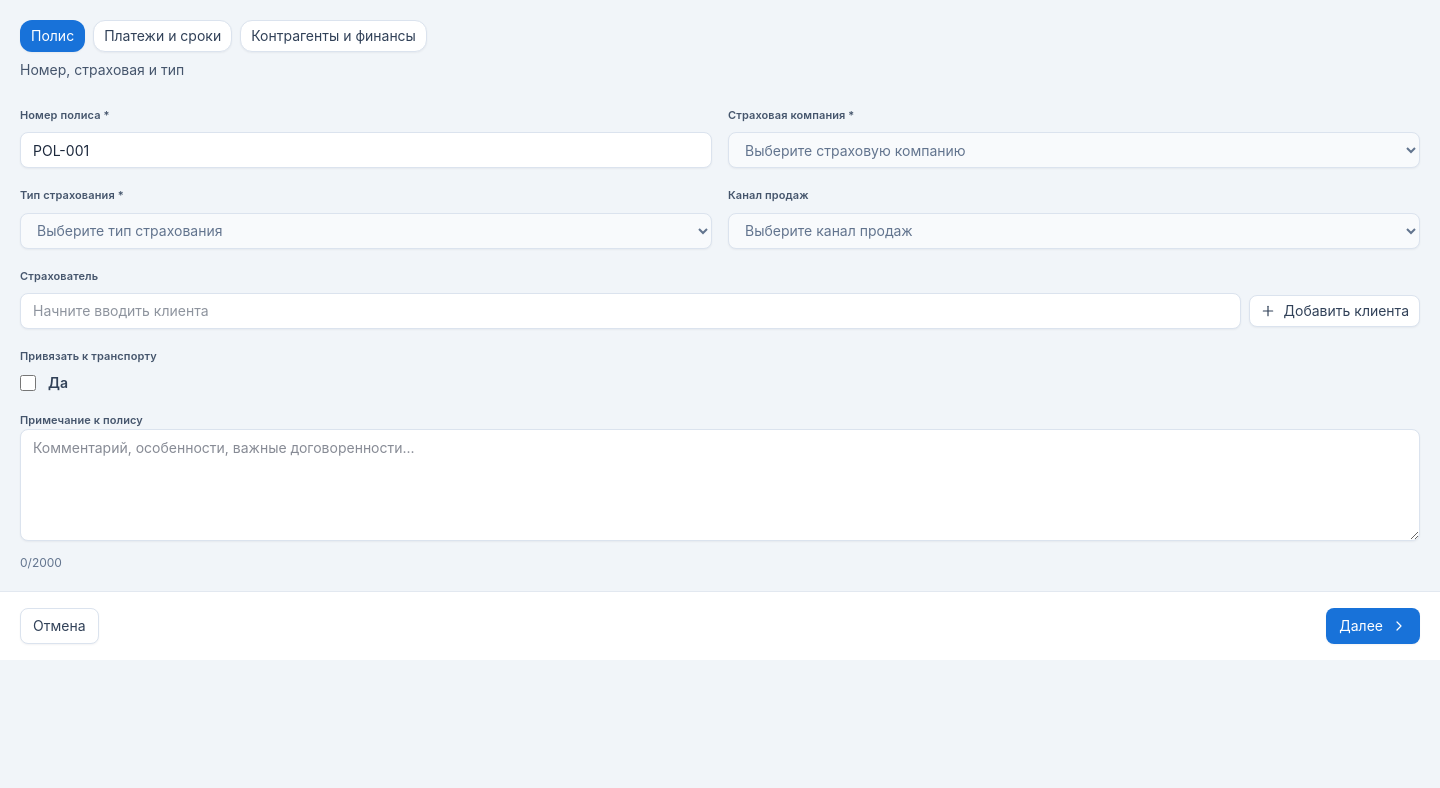
Test: AddPolicyForm › shows the duplicate policy number message returned by saving
Click the button "Контрагенты и финансы": (334, 36) [240, 20, 427, 52]
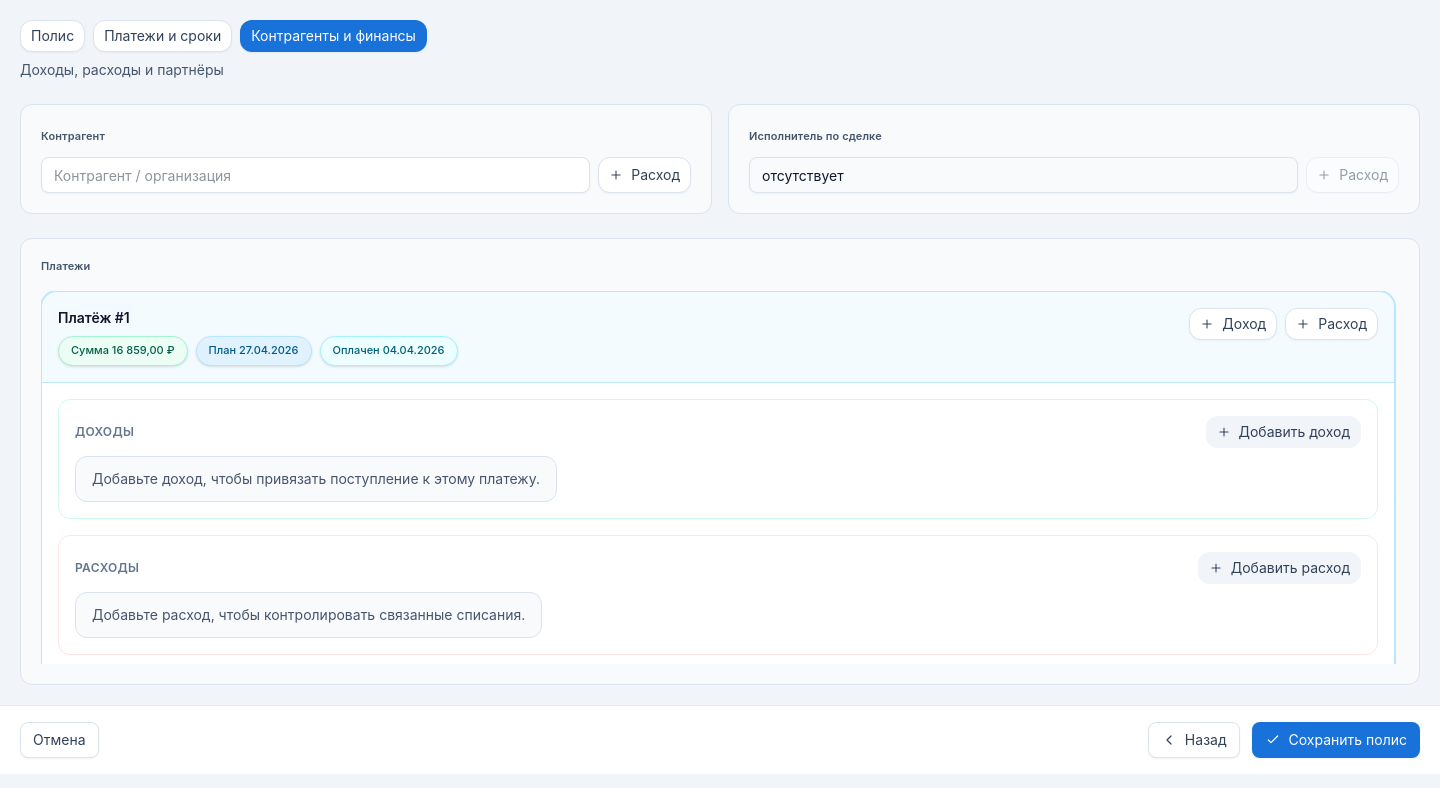
Click the button "Сохранить полис": (1336, 740) [1252, 722, 1420, 758]
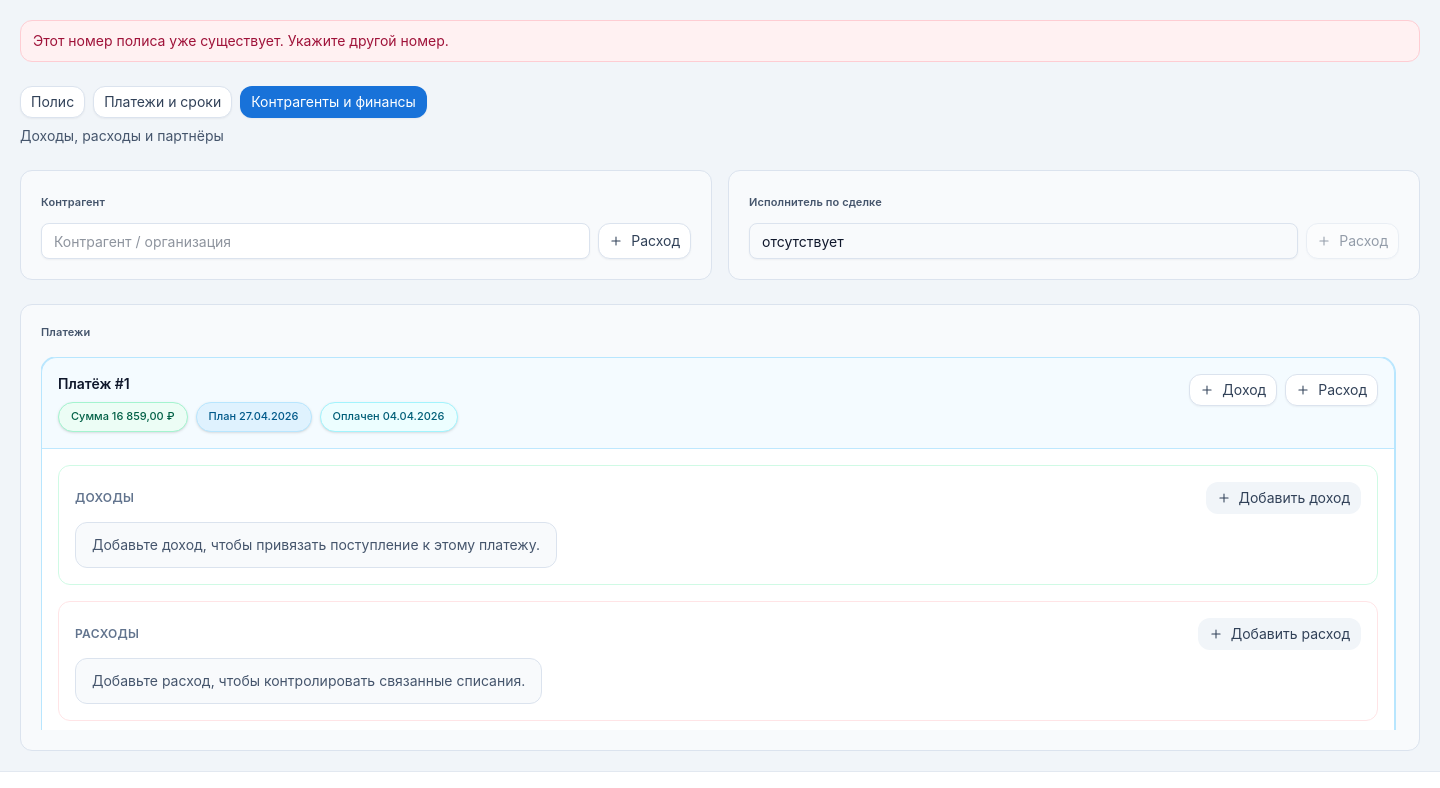
Expected: the text "Этот номер полиса уже существует. Укажите другой номер." is shown, [20, 20, 1420, 62]
